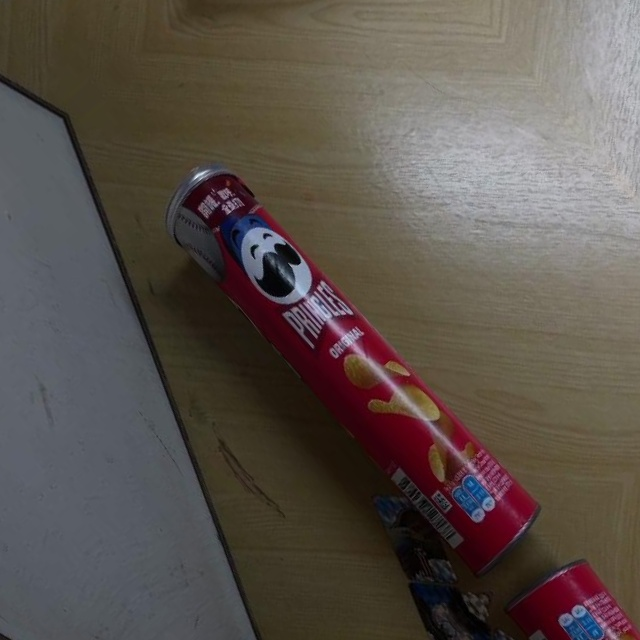Pringles: (144, 136, 552, 590)
